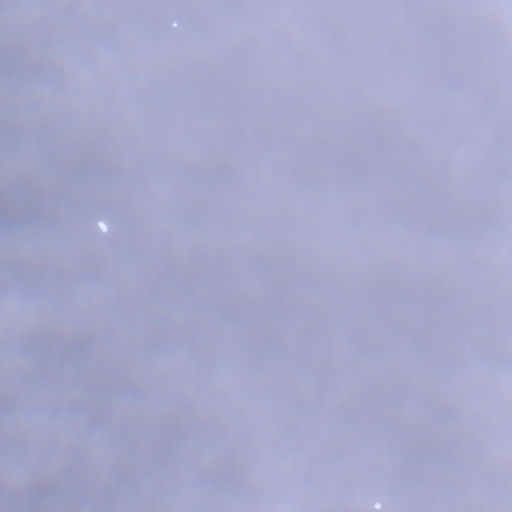Iceberg: (97, 221, 107, 232), (374, 502, 380, 510), (172, 23, 176, 26)
